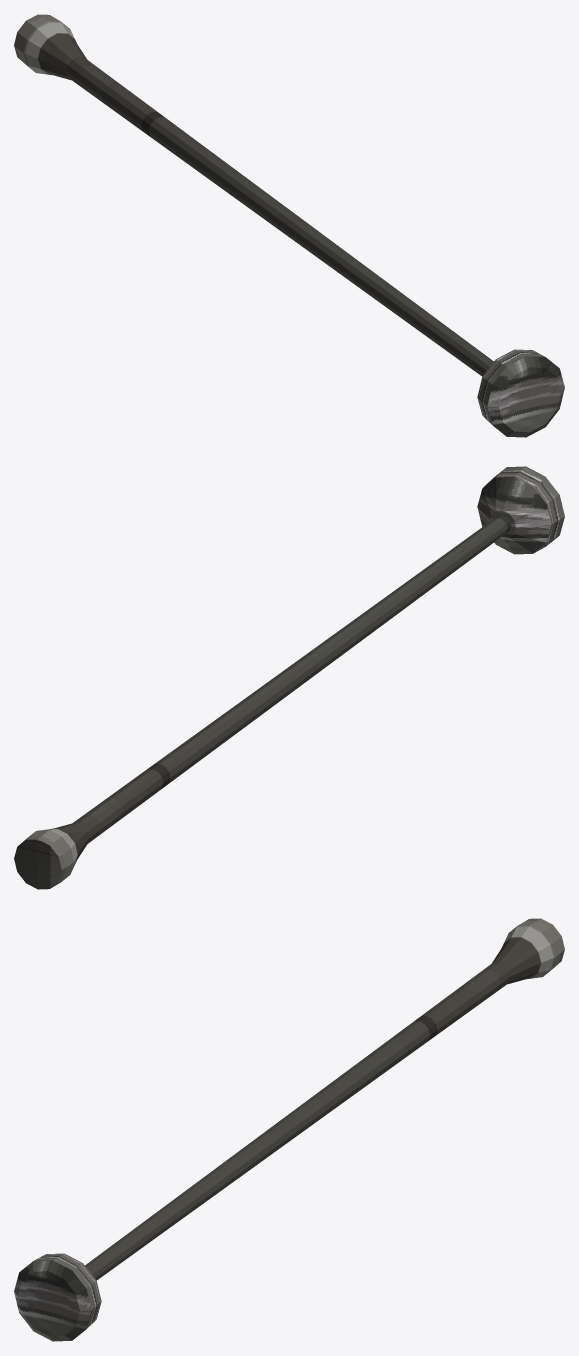
File: pz_street_pole_02.obj
The picture shows the model from 3 angles, top to bottom: view 1: azimuth 30°, elevation 25°; view 2: azimuth 150°, elevation 25°; view 3: azimuth 330°, elevation 25°; orthographic projection.
Visible parts, largest first — view 1: pz_street_pole_02_|_tapered_native_street_pole, pz_street_pole_02_|_rounded_native_lamp_head; view 2: pz_street_pole_02_|_tapered_native_street_pole, pz_street_pole_02_|_rounded_native_lamp_head; view 3: pz_street_pole_02_|_tapered_native_street_pole, pz_street_pole_02_|_rounded_native_lamp_head.
Boxes of the visible parts, x1,y1,x2,y2 form: pz_street_pole_02_|_tapered_native_street_pole: (14,14,493,376); pz_street_pole_02_|_rounded_native_lamp_head: (477,349,564,437); pz_street_pole_02_|_tapered_native_street_pole: (14,515,511,889); pz_street_pole_02_|_rounded_native_lamp_head: (477,466,564,554); pz_street_pole_02_|_tapered_native_street_pole: (85,918,564,1280); pz_street_pole_02_|_rounded_native_lamp_head: (14,1253,101,1341).
Size of the model in its own units: 0.23 by 0.23 by 2.52.
Materials: 1 (1 with a texture image).
